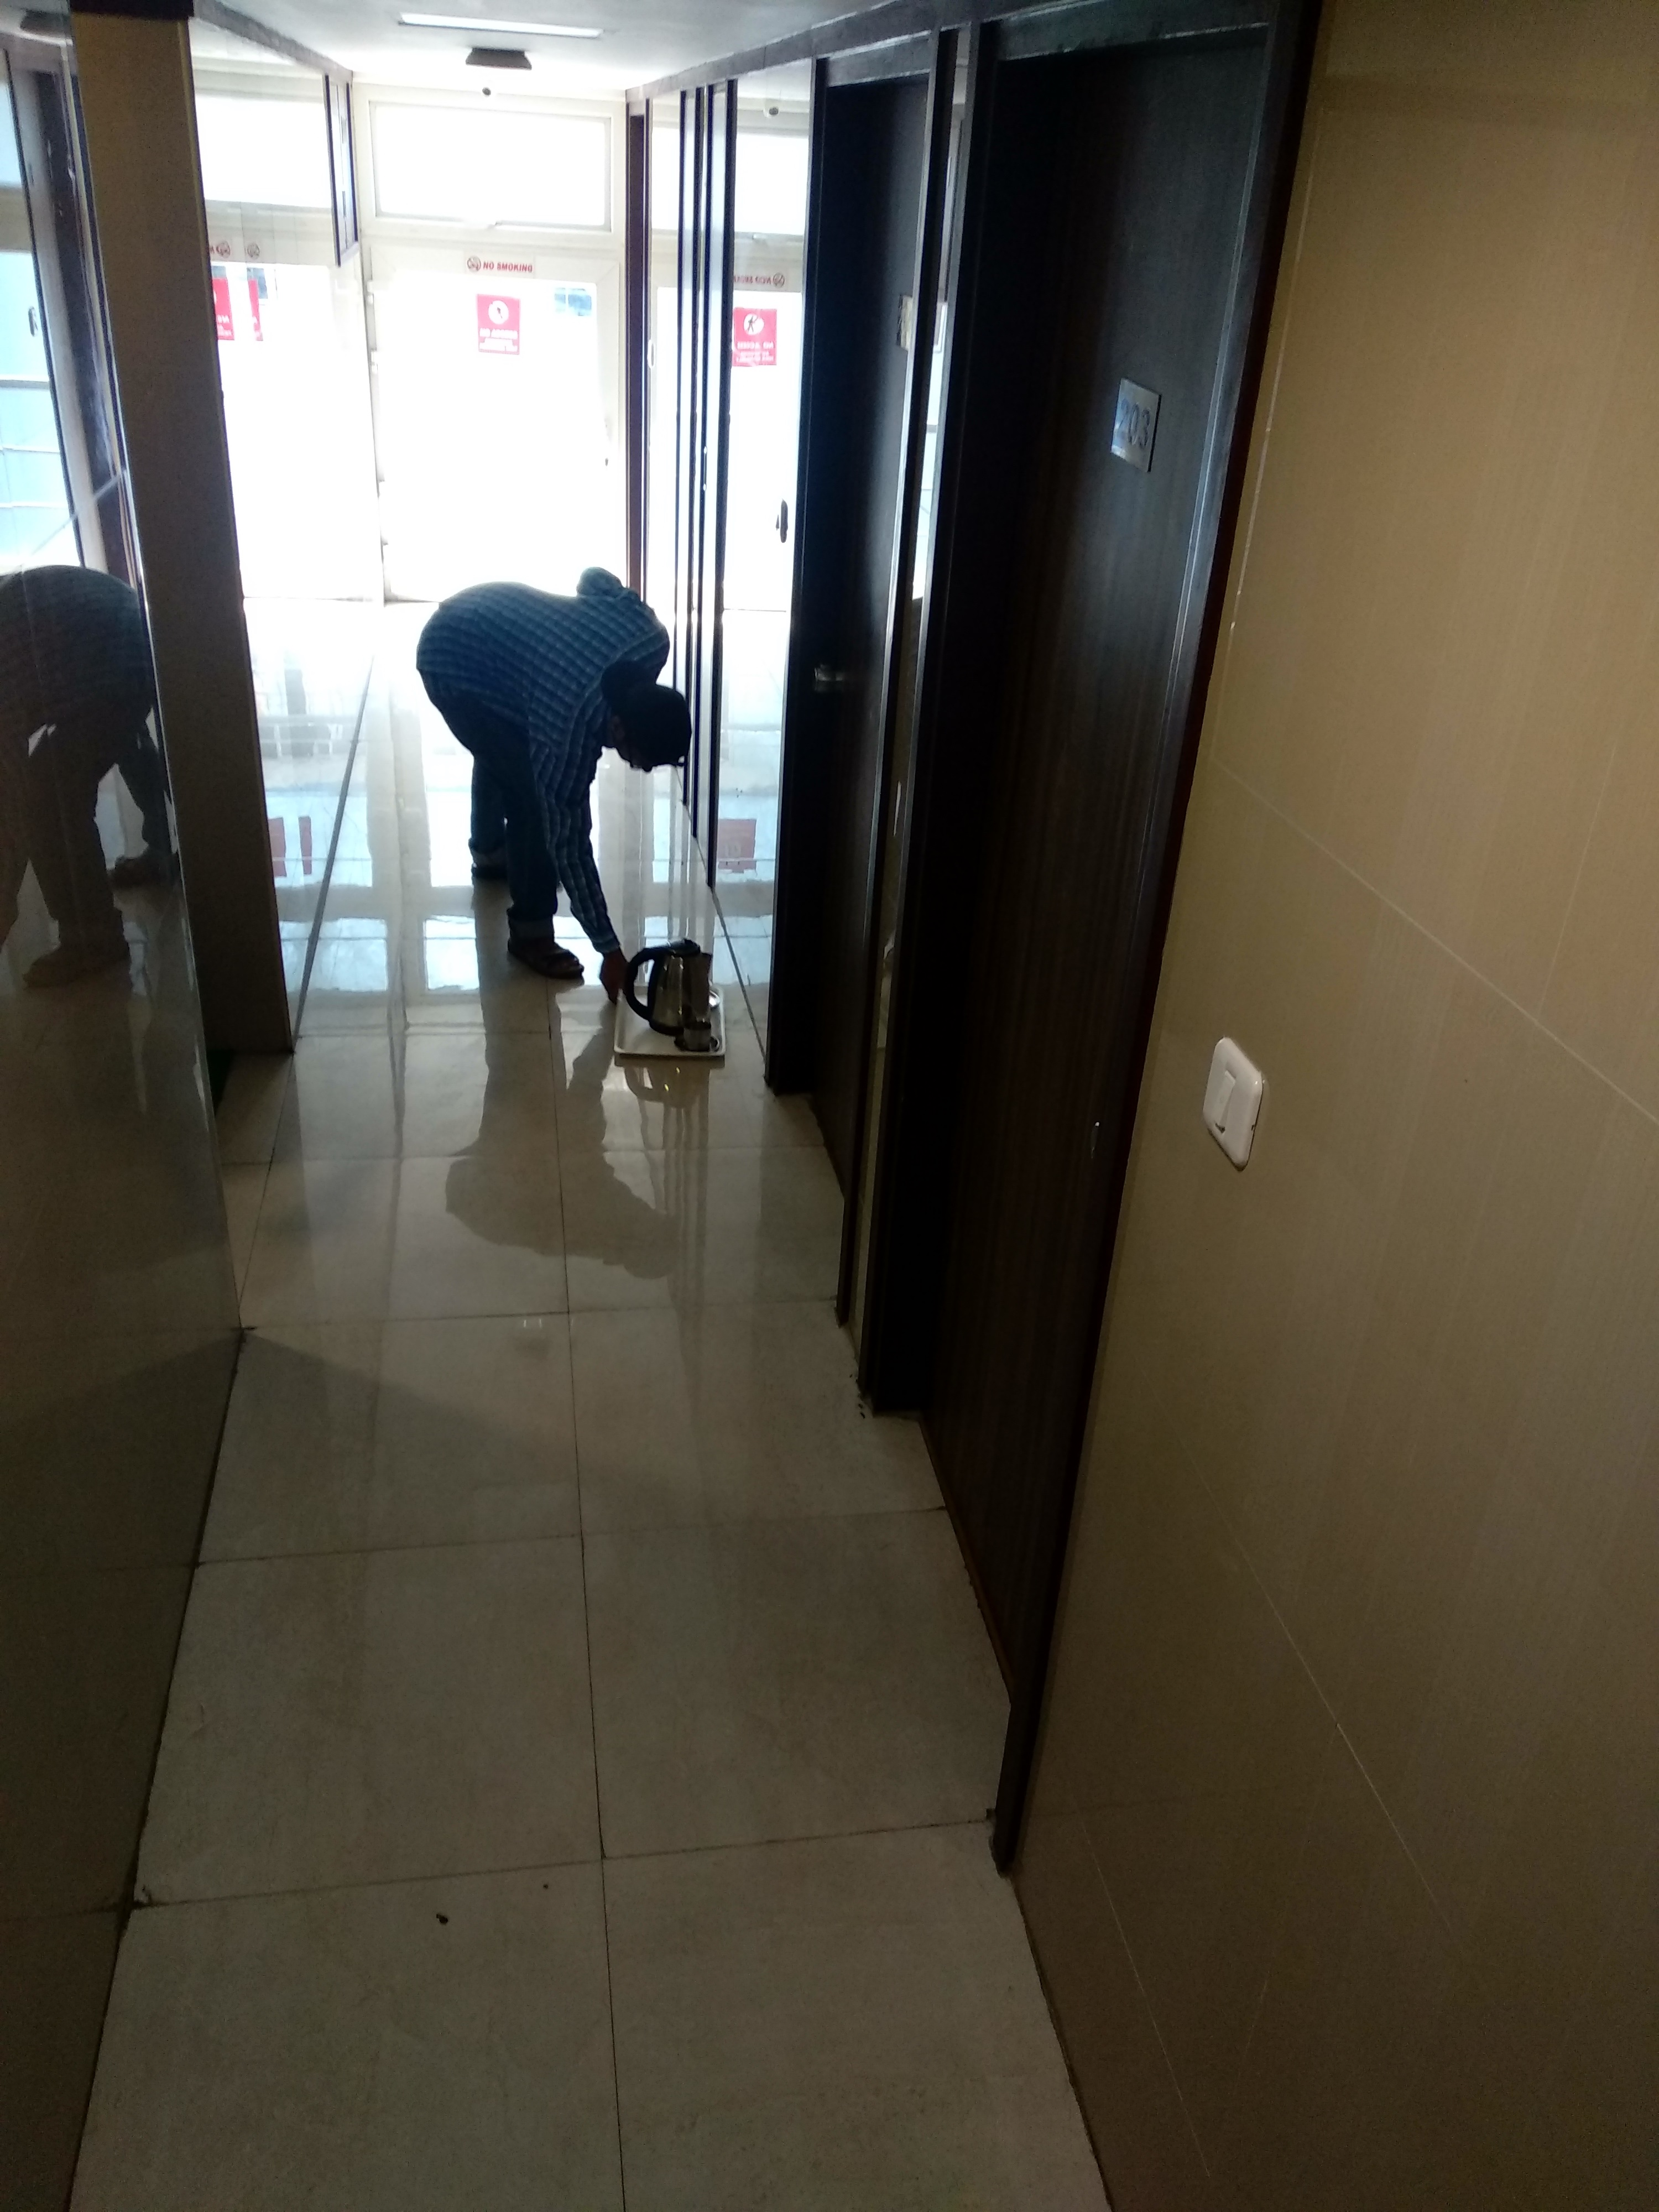CUP: (676, 1019, 721, 1052)
JUG: (631, 928, 728, 1031)
